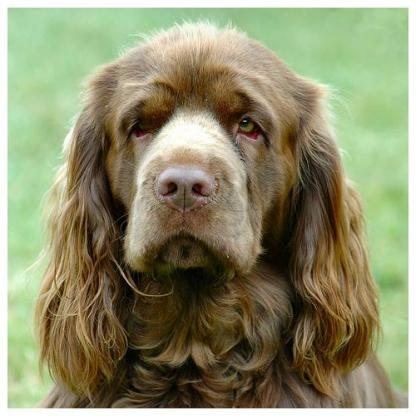Sussex_spaniel: (33, 19, 407, 405)
